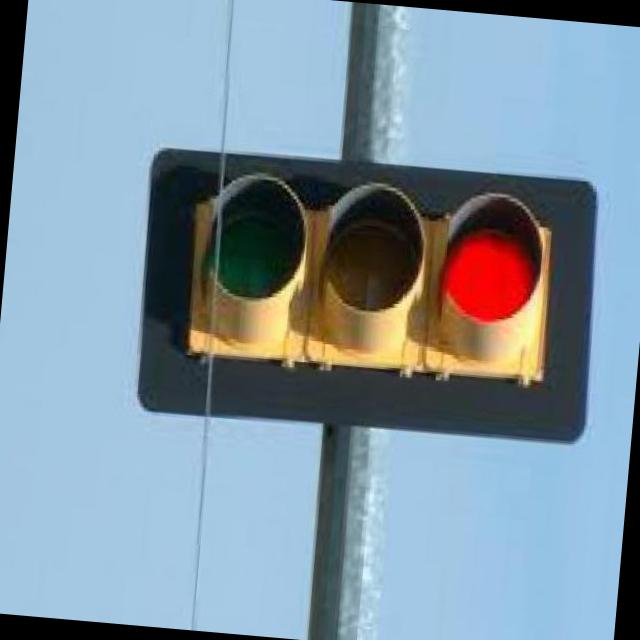red-lights: (417, 180, 563, 397)
